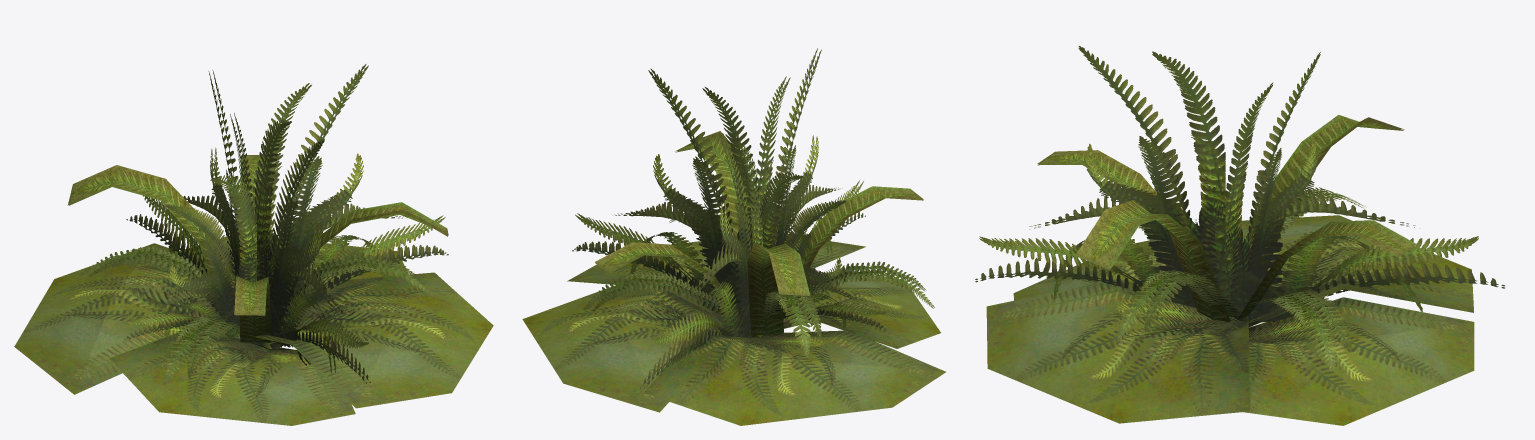
File: frst_fern_olive_l0.fbx
3 renders of one model, left to right at view 1: azimuth 30°, elevation 25°; view 2: azimuth 150°, elevation 25°; view 3: azimuth 270°, elevation 25°, orthographic. The views are drawn at different scales.
Parts seen in each view (by area): view 1: mesh_node; view 2: mesh_node; view 3: mesh_node.
Boxes of the visible parts, x1,y1,x2,y2 form: mesh_node: (14, 64, 493, 425); mesh_node: (522, 48, 945, 425); mesh_node: (975, 46, 1504, 425).
Bounding box in the file's own units: 3.34 × 2.41 × 3.65.
